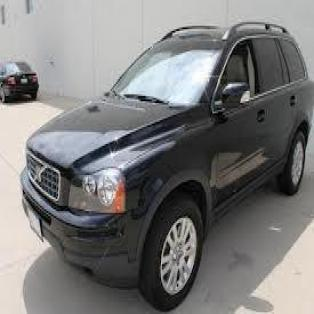Auto: (18, 19, 313, 312)
